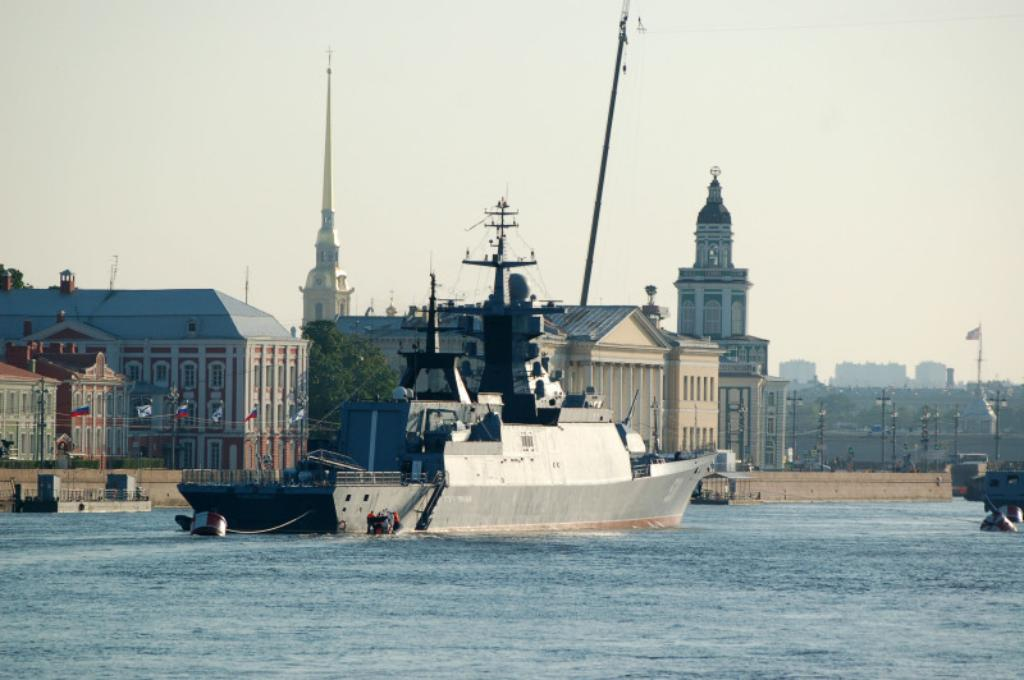Warship: (176, 193, 716, 537)
